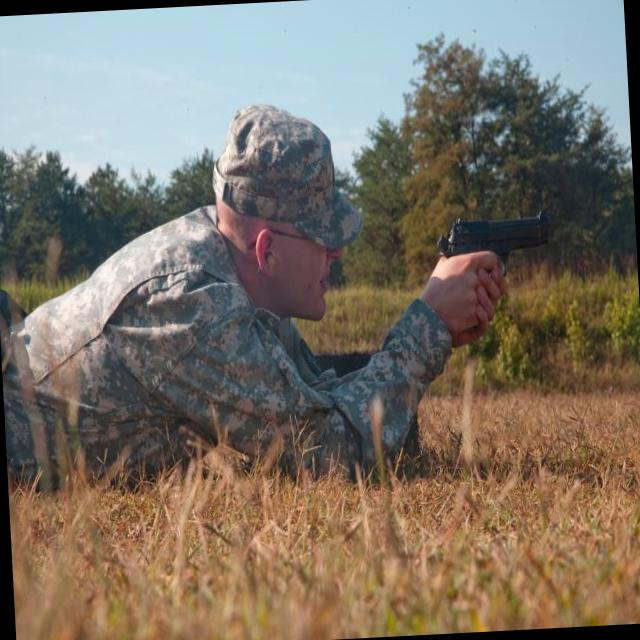Gun: (439, 212, 551, 263)
